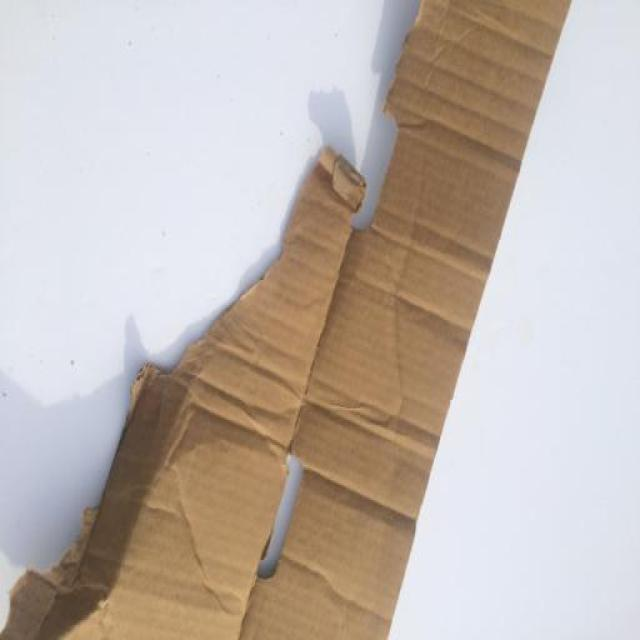cardboard: (0, 0, 574, 640)
